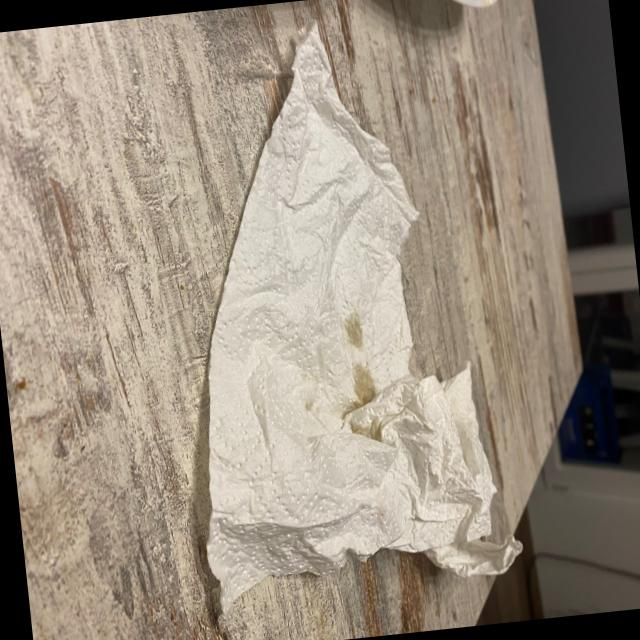organic waste: (145, 2, 530, 624)
